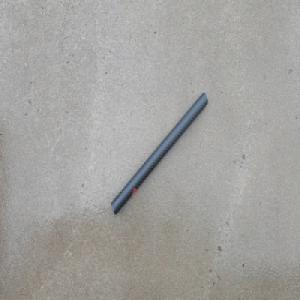LuggagePart: (110, 91, 208, 216)
